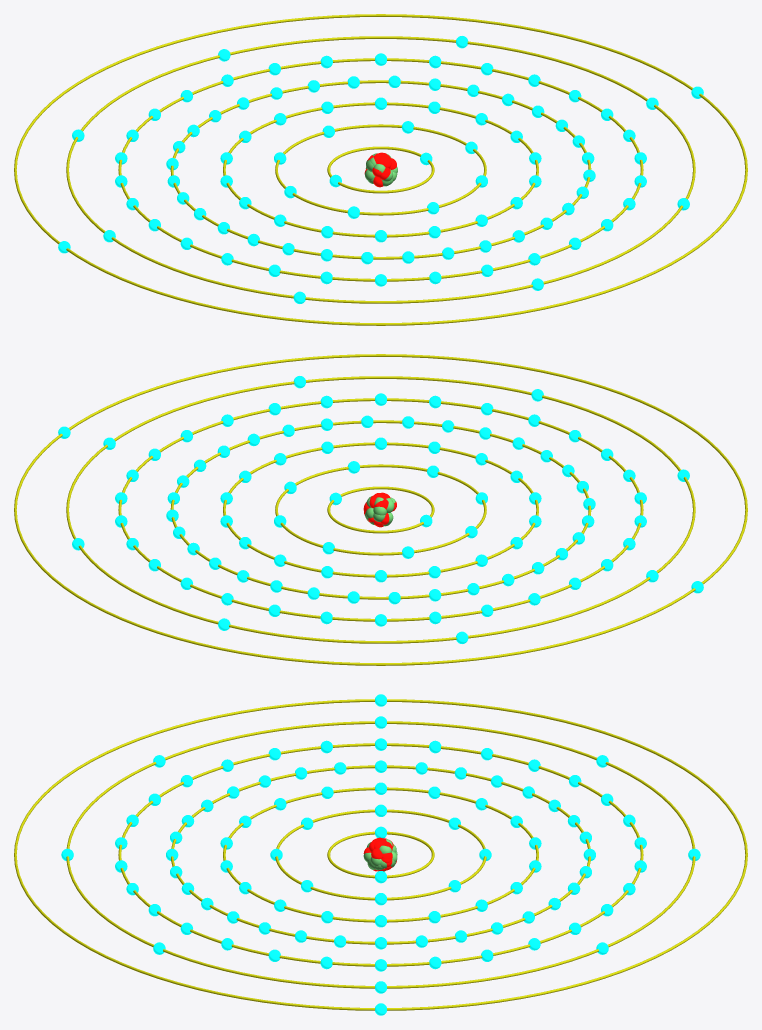
The model's file is atomo_100.glb.
3 views of the same model, one above another, from view 1: azimuth 30°, elevation 25°; view 2: azimuth 150°, elevation 25°; view 3: azimuth 270°, elevation 25° (orthographic).
Parts seen in each view (by area): view 1: orbital_7, orbital_6, orbital_5, orbital_4, orbital_3, orbital_2, orbital_1; view 2: orbital_7, orbital_6, orbital_5, orbital_4, orbital_3, orbital_2, orbital_1; view 3: orbital_7, orbital_6, orbital_5, orbital_4, orbital_3, orbital_2, orbital_1.
Part boxes in pixels (x1,y1,x2,y2): orbital_7: (14, 14, 747, 325); orbital_6: (66, 36, 695, 303); orbital_5: (118, 58, 643, 281); orbital_4: (170, 80, 591, 259); orbital_3: (223, 102, 538, 237); orbital_2: (275, 124, 486, 215); orbital_1: (327, 146, 434, 193); orbital_7: (14, 354, 747, 665); orbital_6: (66, 376, 695, 643); orbital_5: (118, 398, 643, 621); orbital_4: (170, 420, 591, 599); orbital_3: (223, 442, 538, 577); orbital_2: (275, 464, 486, 555); orbital_1: (327, 486, 434, 533); orbital_7: (14, 699, 747, 1010); orbital_6: (66, 721, 695, 988); orbital_5: (118, 743, 643, 966); orbital_4: (171, 765, 590, 944); orbital_3: (223, 787, 538, 922); orbital_2: (275, 809, 486, 900); orbital_1: (327, 831, 434, 878).
Bounding box in the file's own units: 21.36 × 0.9933 × 21.08.
